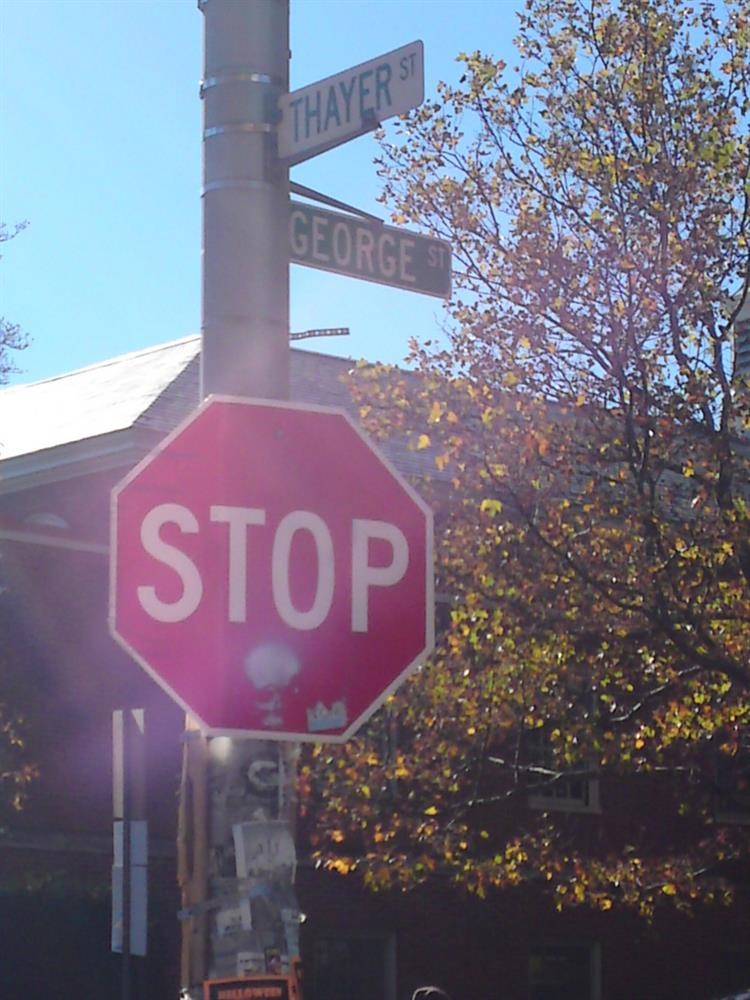stop_sign: (99, 395, 440, 741)
